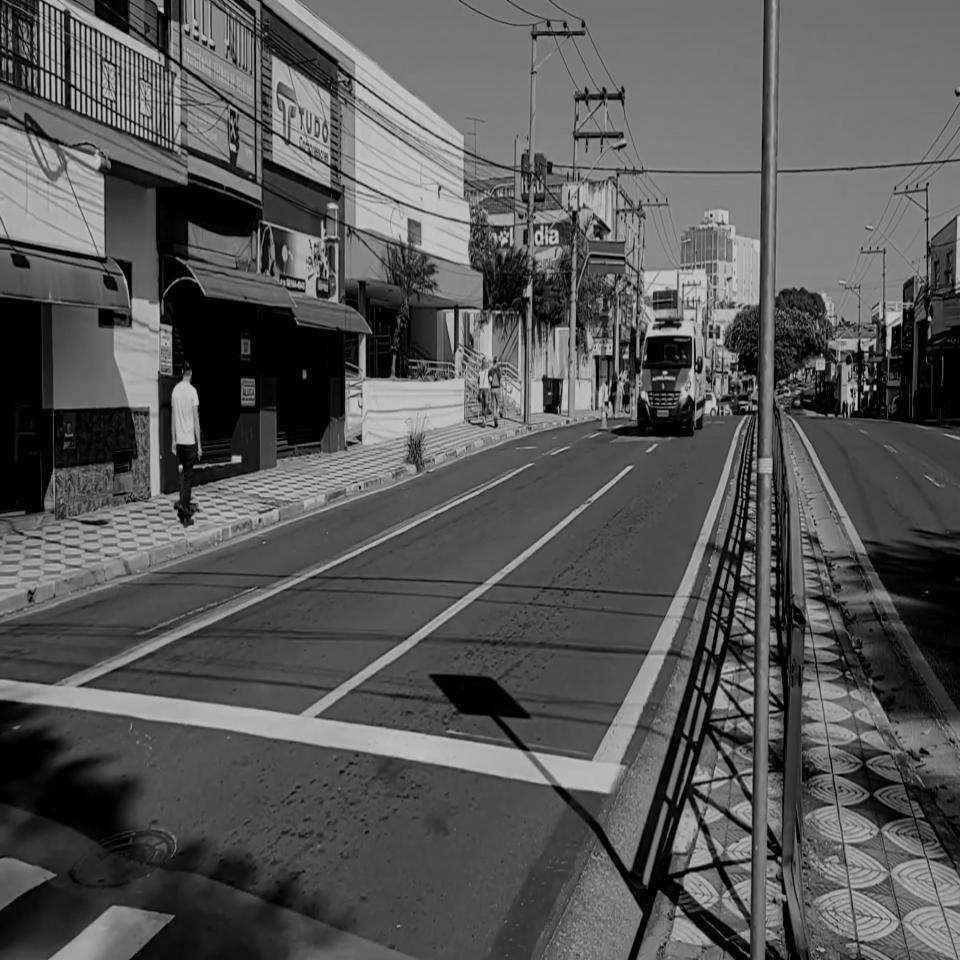viatura: (637, 290, 705, 436)
